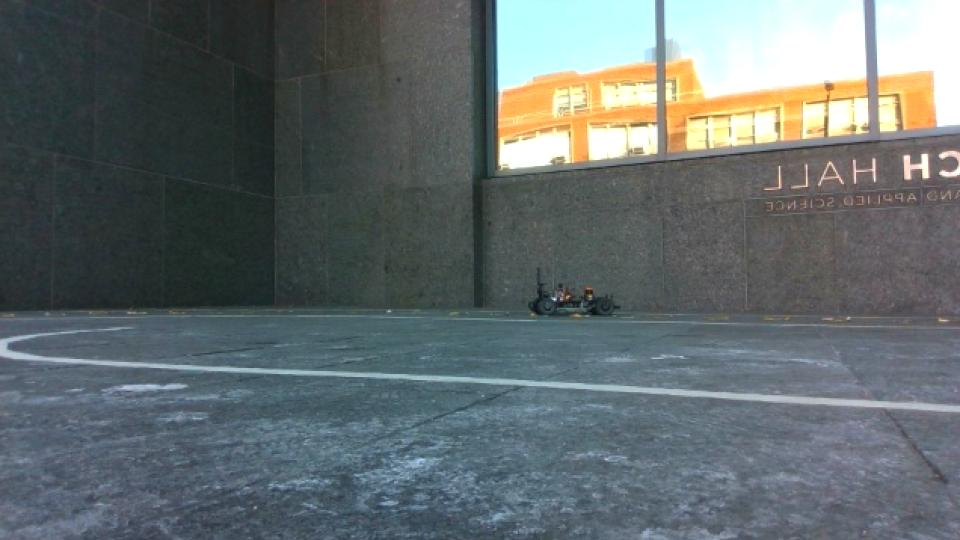car: (527, 264, 623, 320)
